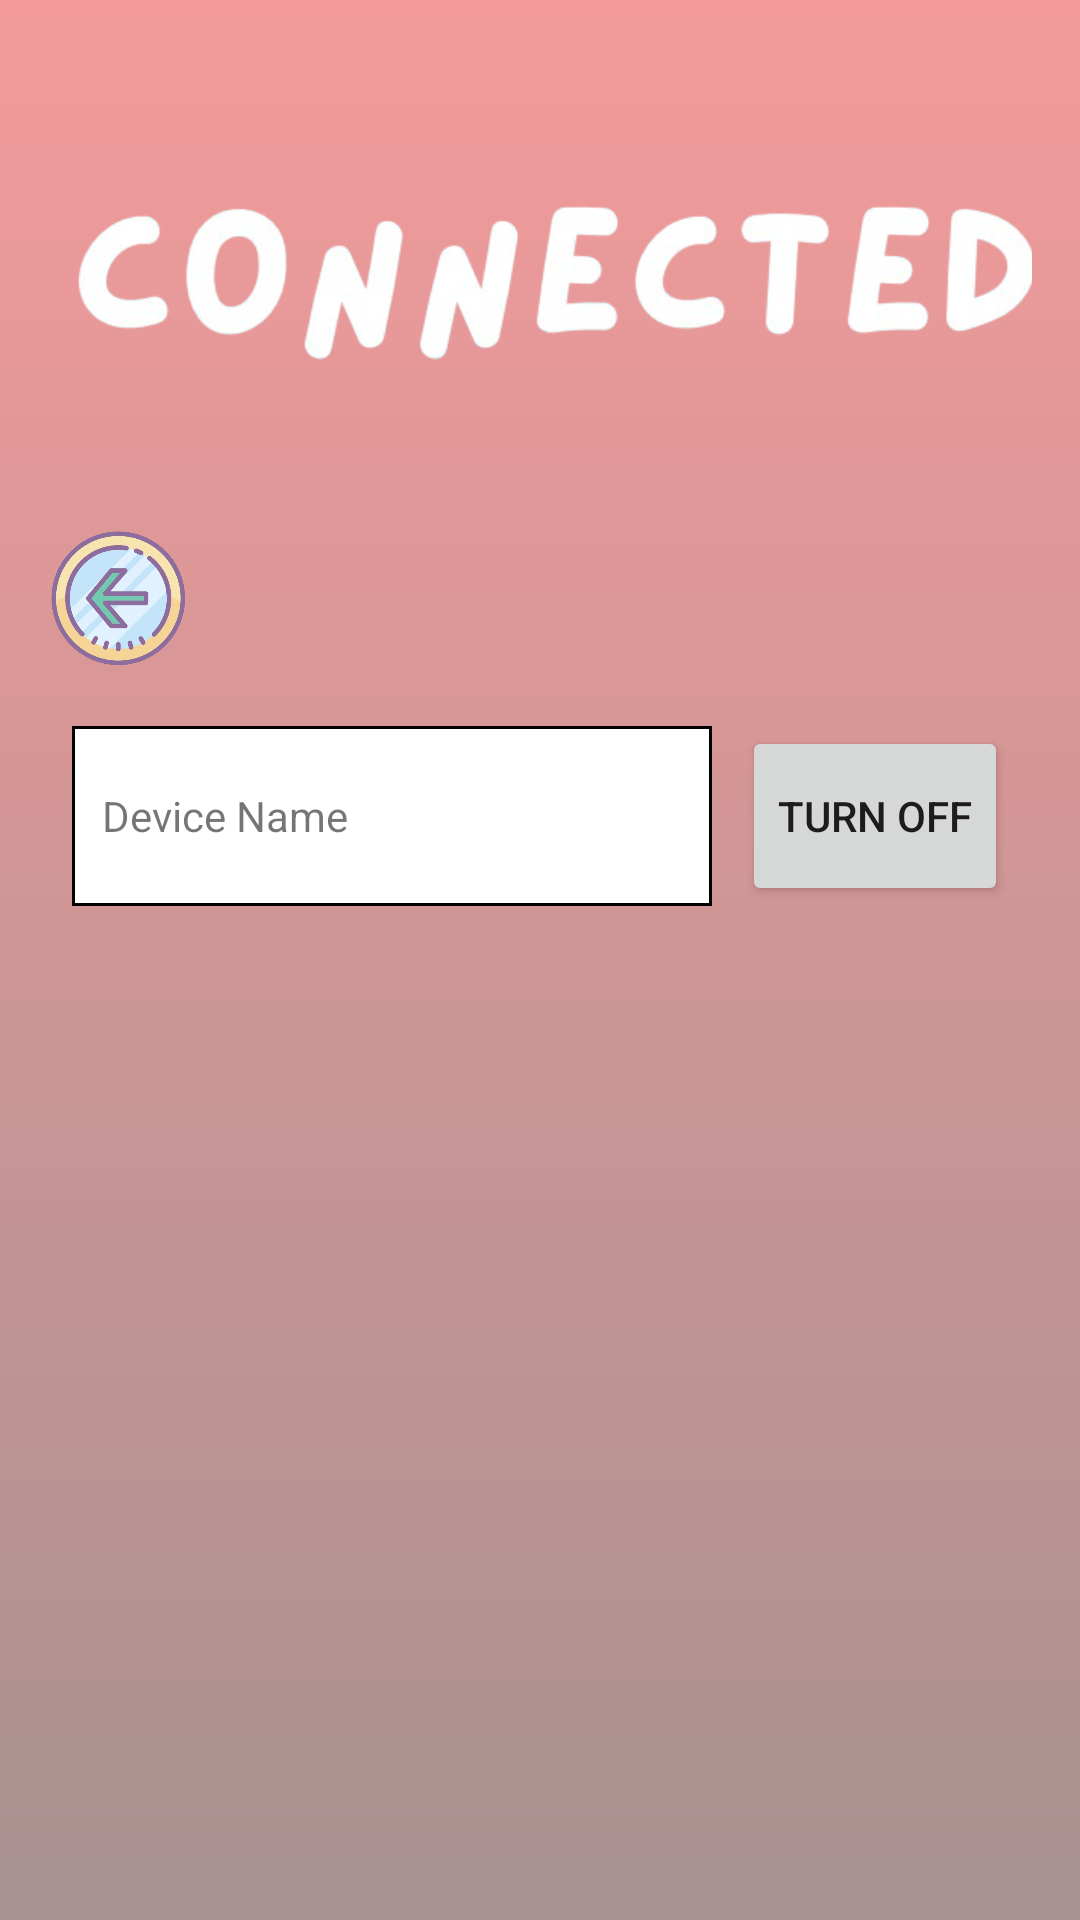

Locate icon controls on the screen. Image size 1080*1920, boxes as (x1, y1, x2, y2).
Back Button: (51, 531, 185, 665)
